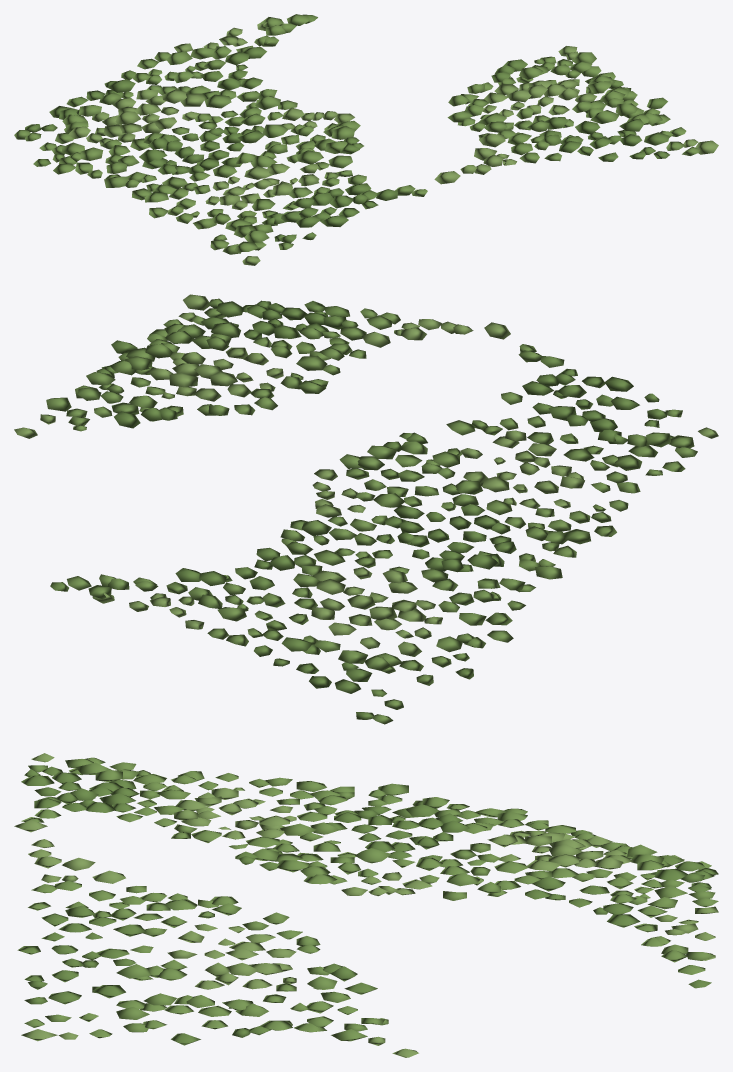
The model's file is canopy-1--3--5.glb.
3 renders of one model, top to bottom at view 1: azimuth 30°, elevation 25°; view 2: azimuth 150°, elevation 25°; view 3: azimuth 270°, elevation 25°, orthographic. The views are drawn at different scales.
Size of the model in its own units: 518 by 122 by 518.
Materials: 1 (1 with a texture image).
